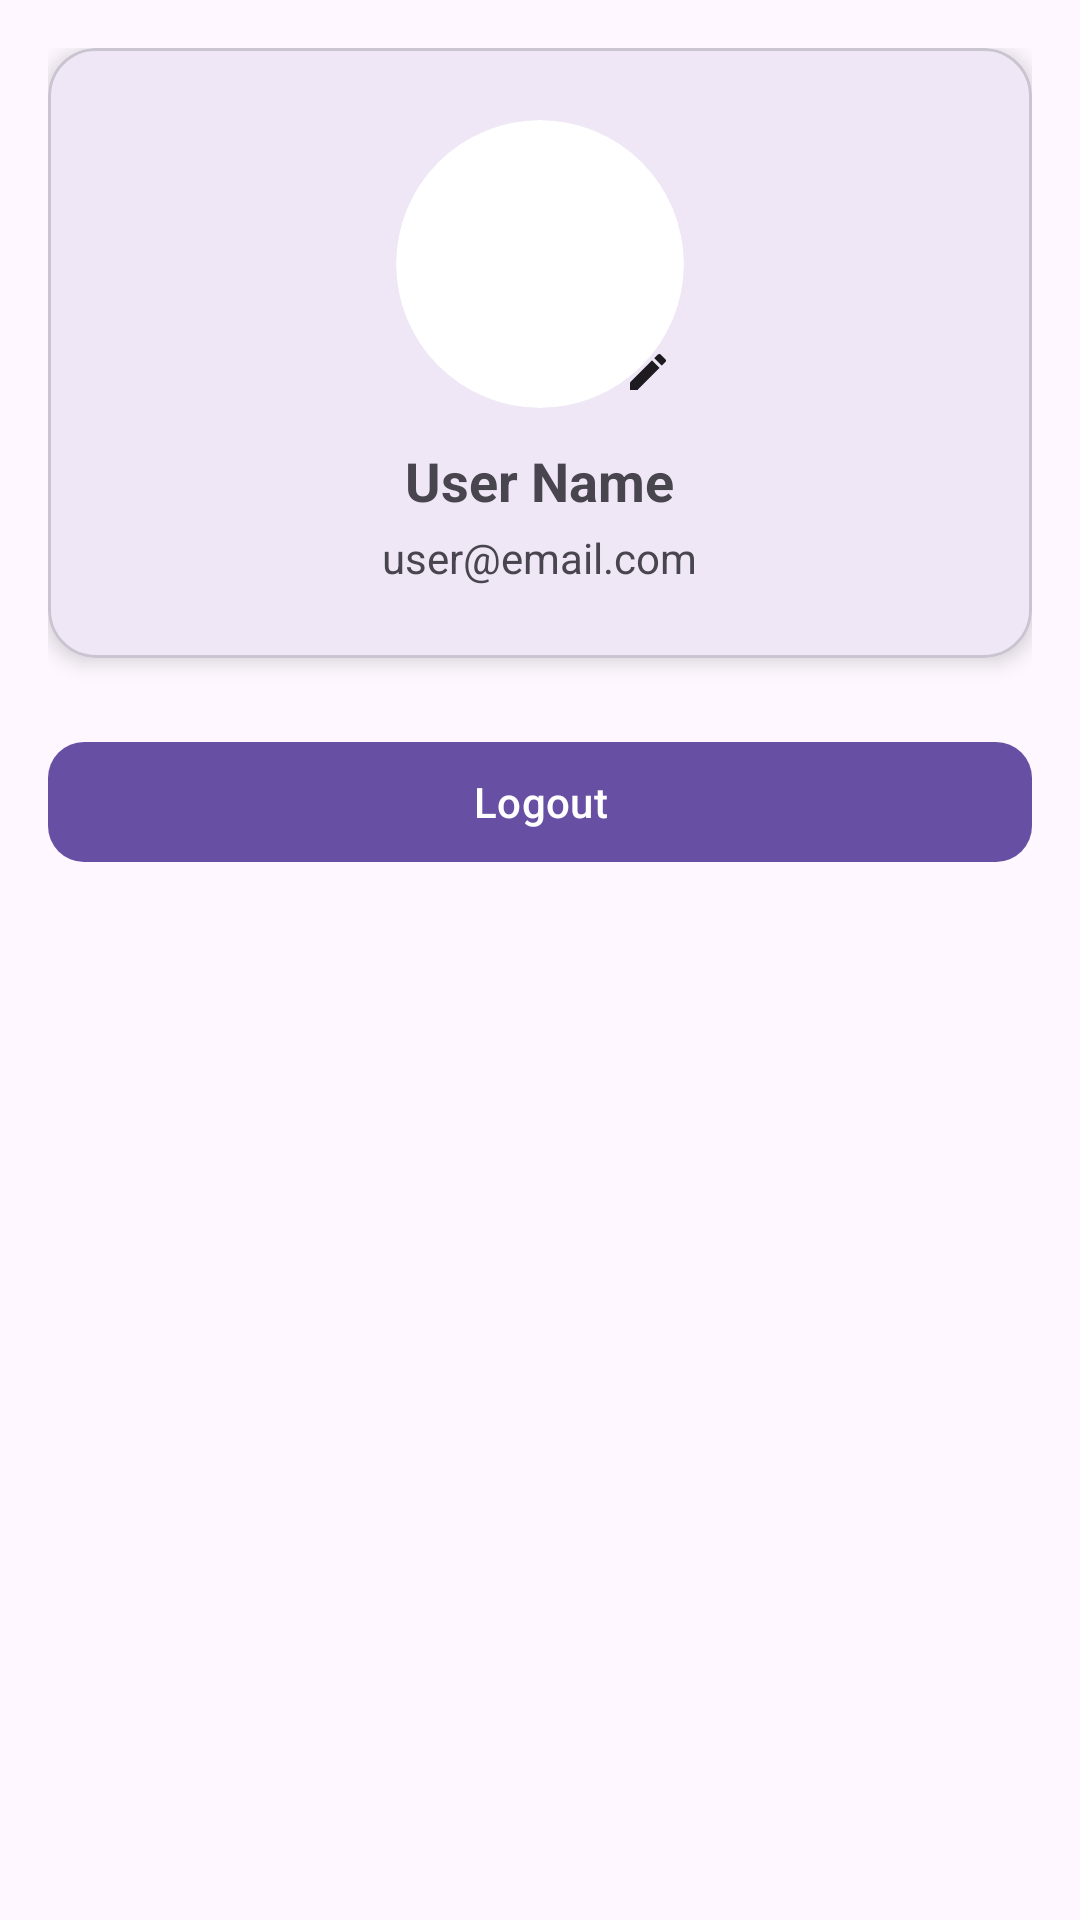

Where icons sit on this 1080 x 1920 app screen, as bbox(x1, y1, x2, y2):
edit: bbox(612, 336, 666, 390)
